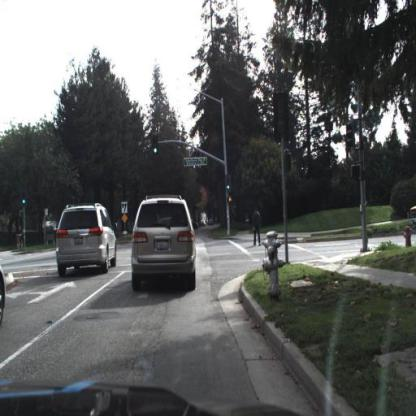biker: (15, 218, 25, 254)
car: (129, 191, 203, 294), (55, 201, 119, 279), (405, 187, 416, 237)
pedestrian: (252, 200, 266, 254)
trafficLight-Green: (153, 132, 161, 162), (225, 173, 234, 199), (22, 185, 30, 208), (153, 135, 160, 156), (21, 192, 29, 208)
